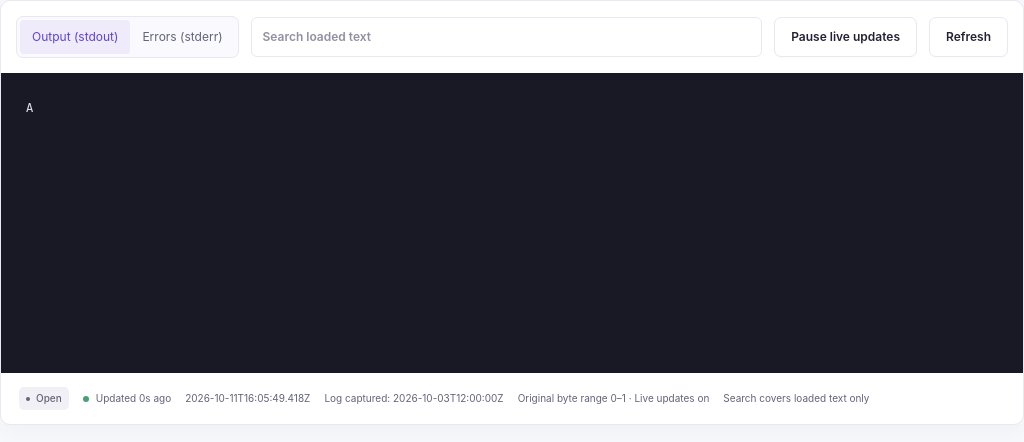
Scenario: rechecks paused logs on foreground as a paused fresh tail with separate source capture
The width and height of the screenshot is (1024, 442).
Click the button "Pause live updates". click: (846, 37)
box: [774,17,917,57]
Wait 20000 ms
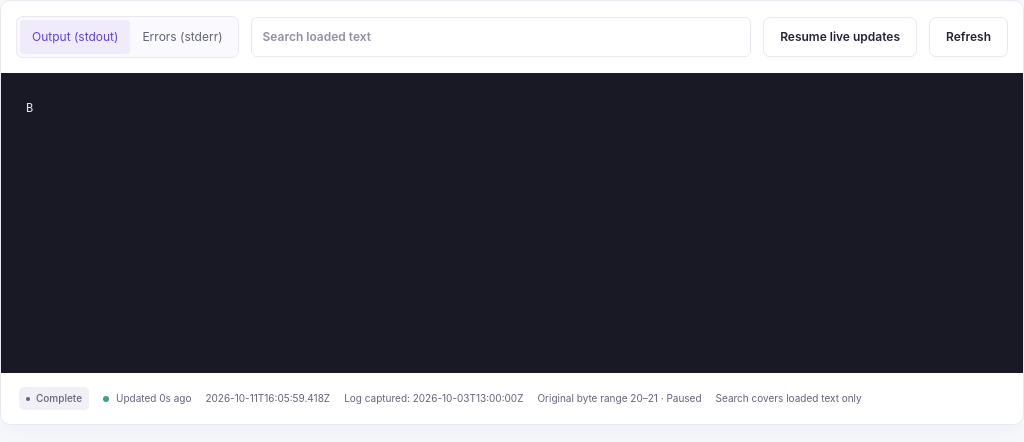
Expected: the text named "stdout log output" reads "B", [26,101,33,115]
Expected: the button "Resume live updates" is shown, [763,17,917,57]
Expected: the text "Log captured: 2026-10-03T13:00:00Z" is shown, [344,391,523,406]
